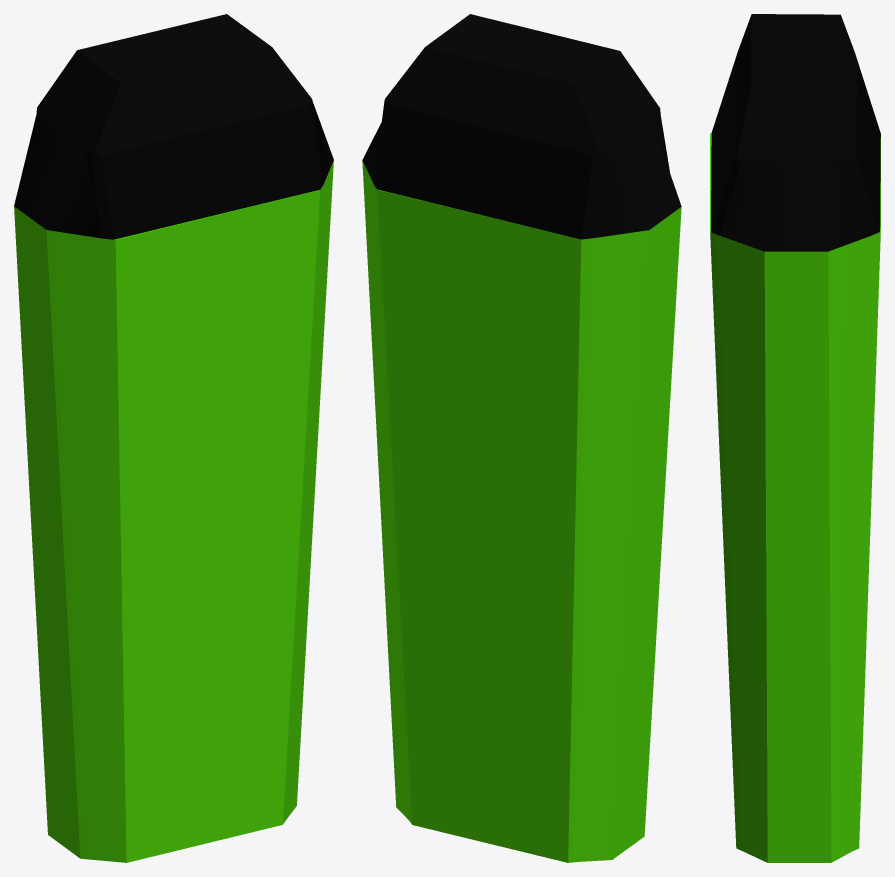
File: fbx_Stabilu_v2.1.fbx
3 views of the same model, side by side, from view 1: azimuth 30°, elevation 25°; view 2: azimuth 150°, elevation 25°; view 3: azimuth 270°, elevation 25° (orthographic).
Visible parts, largest first — view 1: pCube1, pCube2; view 2: pCube1, pCube2; view 3: pCube1, pCube2.
Boxes of the visible parts, x1,y1,x2,y2 form: pCube1: [14, 160, 333, 862]; pCube2: [14, 14, 333, 239]; pCube1: [362, 160, 681, 862]; pCube2: [362, 14, 681, 239]; pCube1: [710, 133, 880, 862]; pCube2: [711, 14, 880, 251].
Bounding box in the file's own units: 3.25 × 8.34 × 1.7.
